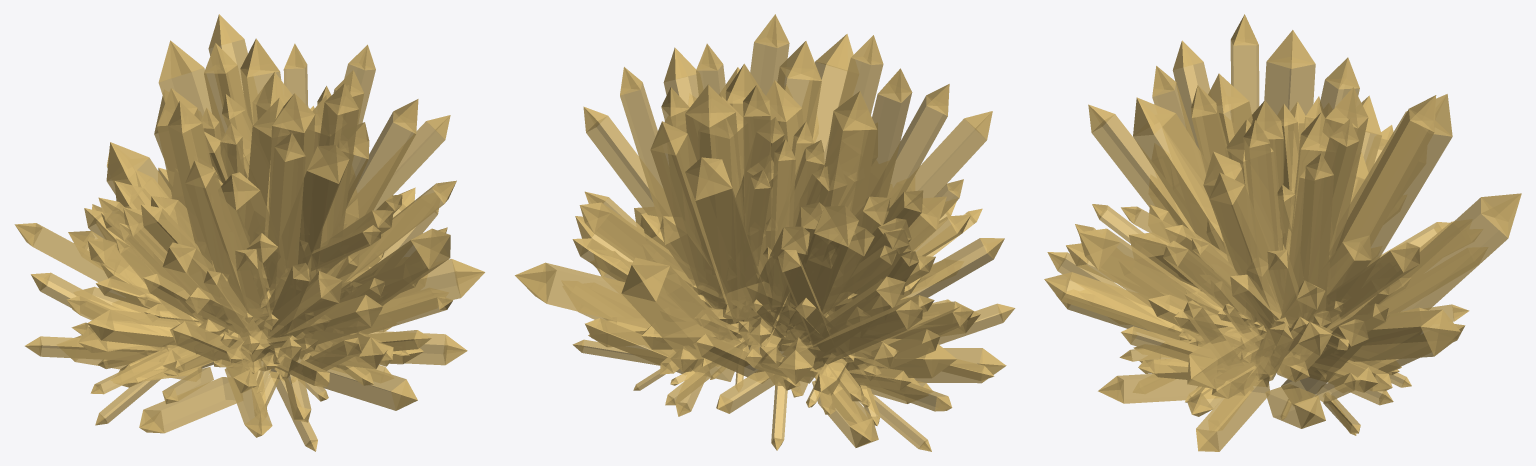
Rendered from crys1.fbx.
3 views of the same model, side by side, from view 1: azimuth 30°, elevation 25°; view 2: azimuth 150°, elevation 25°; view 3: azimuth 270°, elevation 25° (orthographic). The views are drawn at different scales.
Parts seen in each view (by area): view 1: Cube, Cube.001; view 2: Cube, Cube.001; view 3: Cube, Cube.001.
Part boxes in pixels (bbox=[...]): Cube: bbox=[14, 14, 484, 451]; Cube.001: bbox=[129, 252, 391, 381]; Cube: bbox=[515, 14, 1015, 451]; Cube.001: bbox=[673, 217, 873, 390]; Cube: bbox=[1044, 14, 1521, 451]; Cube.001: bbox=[1166, 226, 1410, 395].
Bounding box in the file's own units: 2.54 × 2.06 × 2.64.
